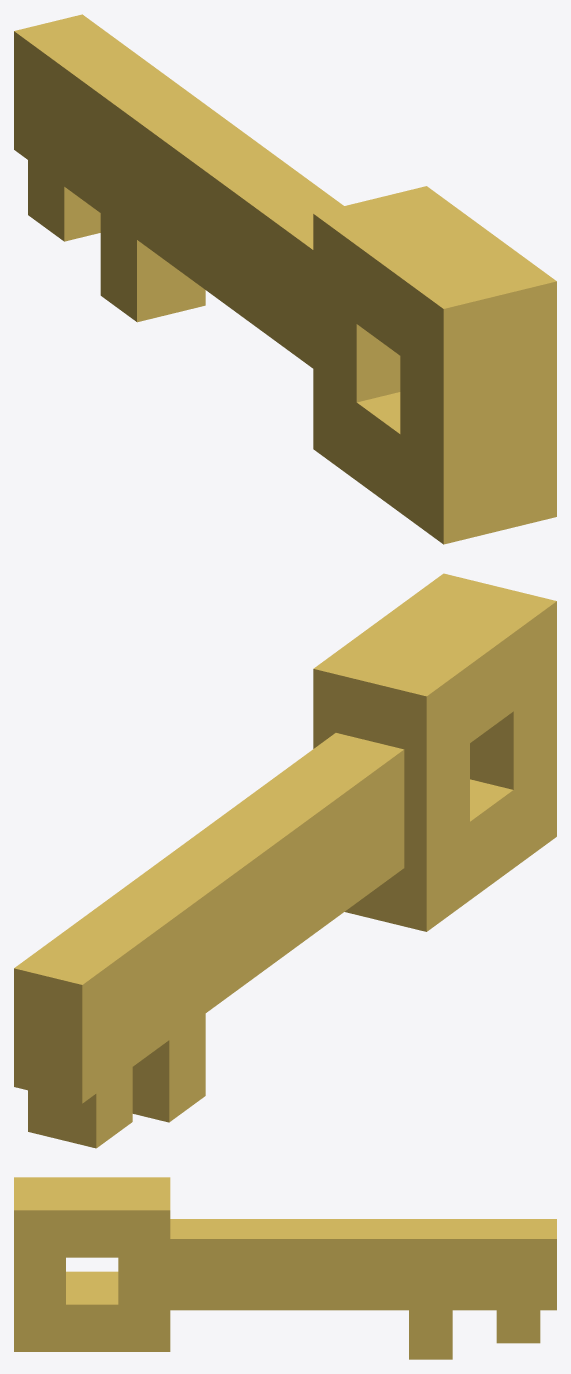
The model's file is Key.fbx.
3 views of the same model, one above another, from view 1: azimuth 30°, elevation 25°; view 2: azimuth 150°, elevation 25°; view 3: azimuth 270°, elevation 25° (orthographic). The views are drawn at different scales.
Parts seen in each view (by area): view 1: Cube; view 2: Cube; view 3: Cube.
Boxes of the visible parts, x1=… form: Cube: x1=14, y1=14, x2=556, y2=544; Cube: x1=14, y1=573, x2=556, y2=1148; Cube: x1=14, y1=1177, x2=556, y2=1359.
Size of the model in its own units: 200 by 438 by 1381.
